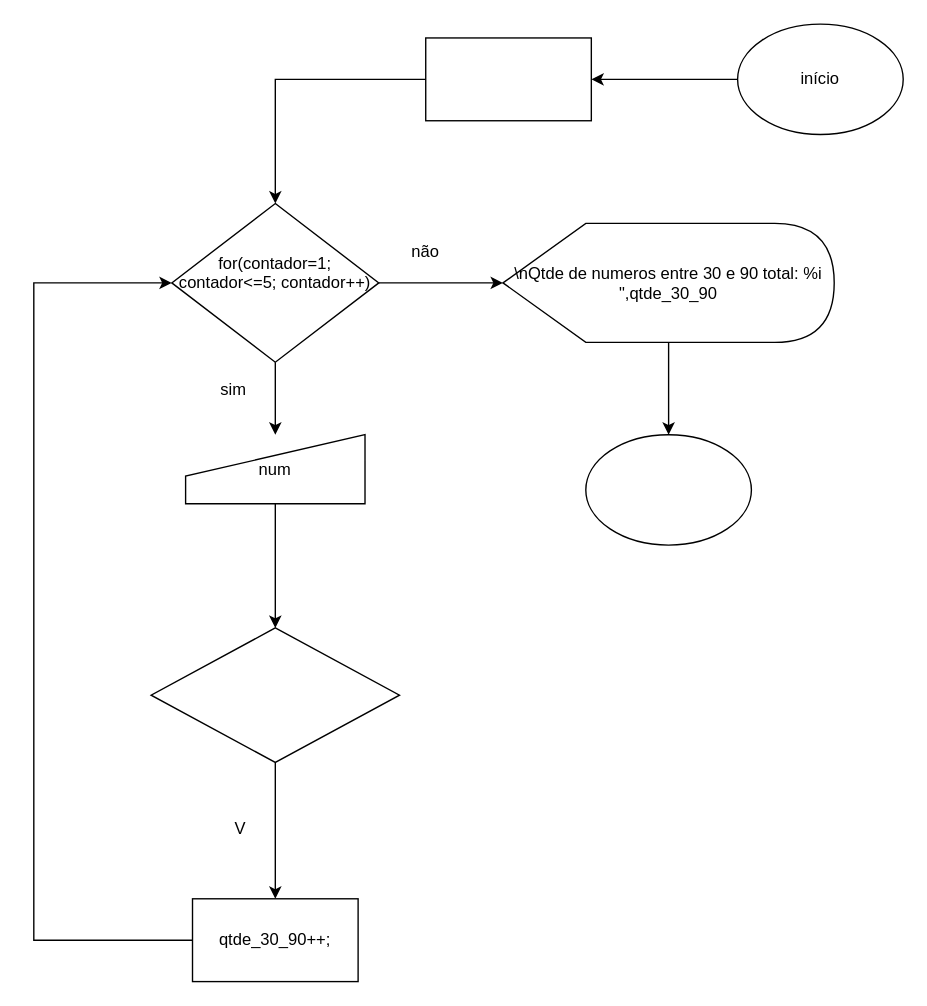
Some shapes in this 927 by 1006 pixel diagram are drawn without their labels. Each missing label, with the box of its shape:
(num>=30) && (num<=90): (150, 627, 400, 762)
Fim: (584, 433, 751, 545)
qtde_30_90=0: (424, 37, 591, 121)
